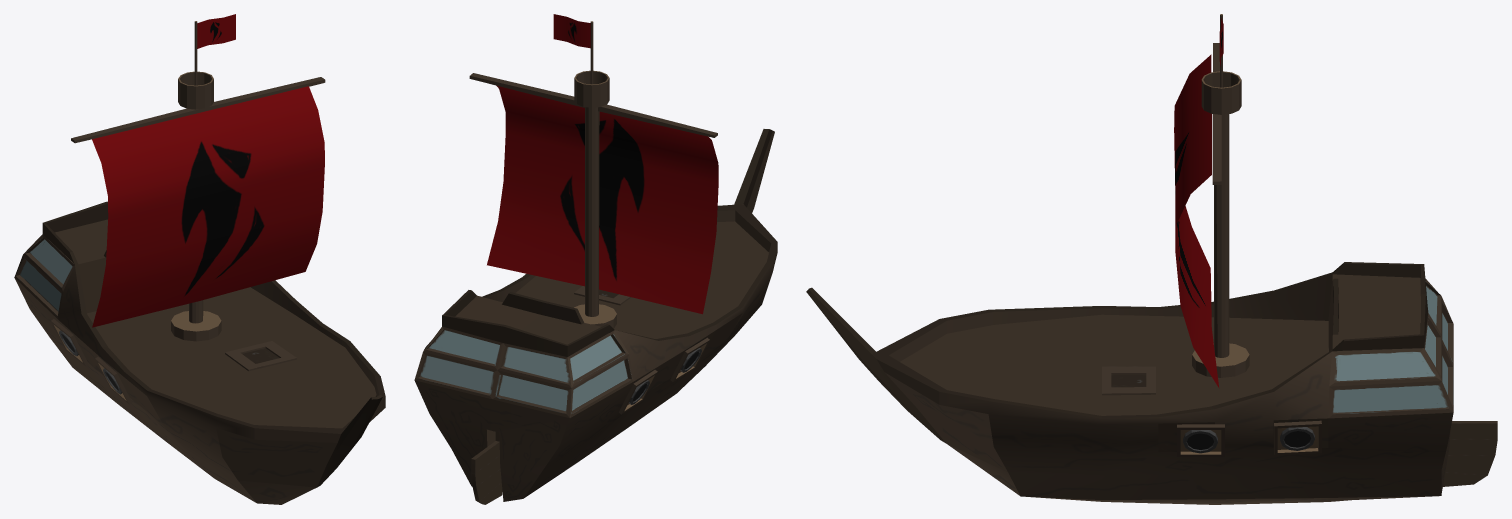
Rendered from EnemyShip_Final.fbx.
The picture shows the model from 3 angles, left to right: view 1: azimuth 30°, elevation 25°; view 2: azimuth 150°, elevation 25°; view 3: azimuth 270°, elevation 25°; orthographic projection. The views are drawn at different scales.
Parts seen in each view (by area): view 1: pCube5, Mast_V01:pCylinder3, pCube9, pCube10; view 2: pCube5, Mast_V01:pCylinder3, pCube10, pCube9; view 3: pCube5, Mast_V01:pCylinder3, pCube8, pCube7.
Boxes of the visible parts, left/top/right/bottom form: pCube5: left=14, top=201, right=385, bottom=504; Mast_V01:pCylinder3: left=71, top=14, right=325, bottom=341; pCube9: left=51, top=319, right=88, bottom=366; pCube10: left=95, top=357, right=131, bottom=404; pCube5: left=414, top=129, right=777, bottom=504; Mast_V01:pCylinder3: left=469, top=14, right=718, bottom=328; pCube10: left=670, top=337, right=709, bottom=381; pCube9: left=619, top=370, right=657, bottom=414; pCube5: left=806, top=262, right=1497, bottom=504; Mast_V01:pCylinder3: left=1174, top=14, right=1249, bottom=388; pCube8: left=1274, top=420, right=1321, bottom=455; pCube7: left=1177, top=424, right=1224, bottom=456.
Size of the model in its own units: 137 by 226 by 288.
6 materials, 6 textured.
